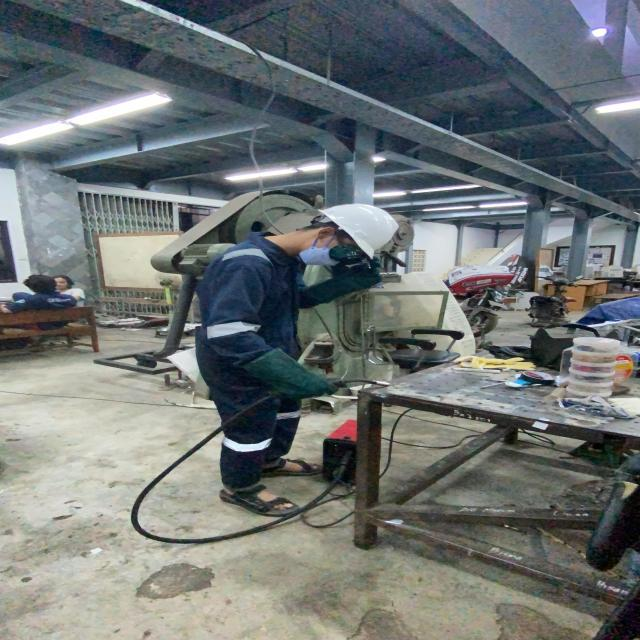glasses: (322, 238, 367, 267)
